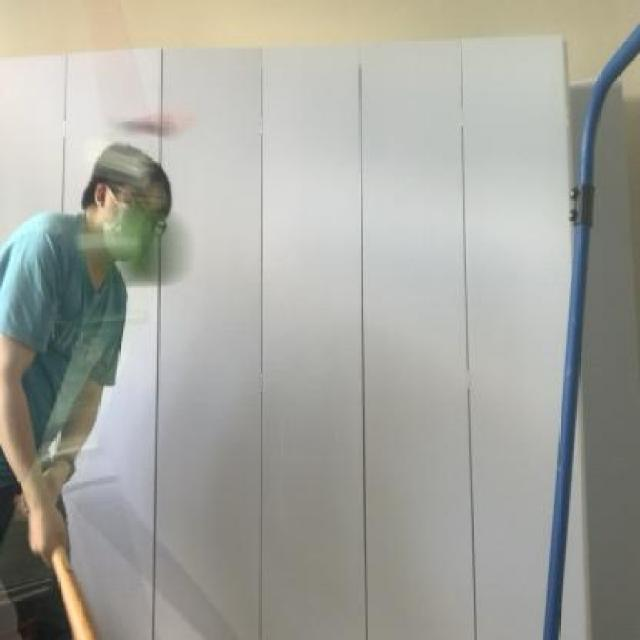baseball: (57, 204, 201, 296)
